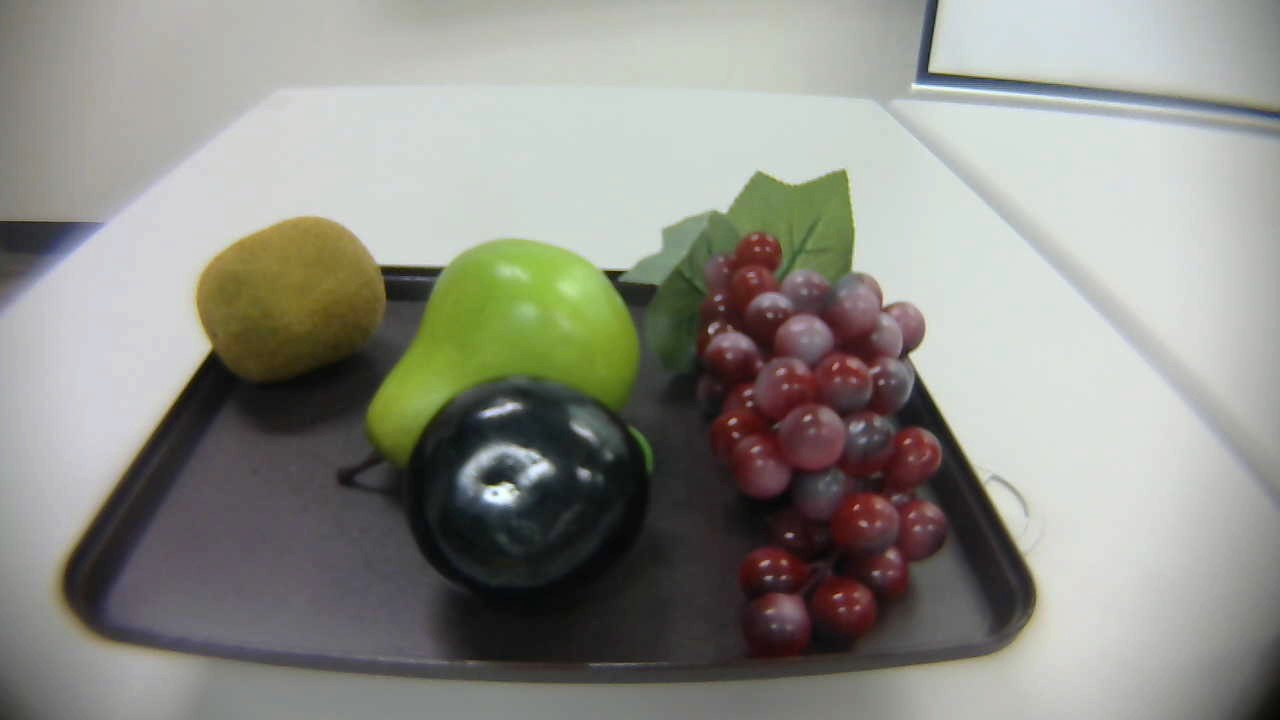grape: (612, 169, 967, 664)
green pear: (338, 234, 647, 501)
kiwi fruit: (180, 206, 395, 386)
mangosteen: (399, 375, 686, 597)
